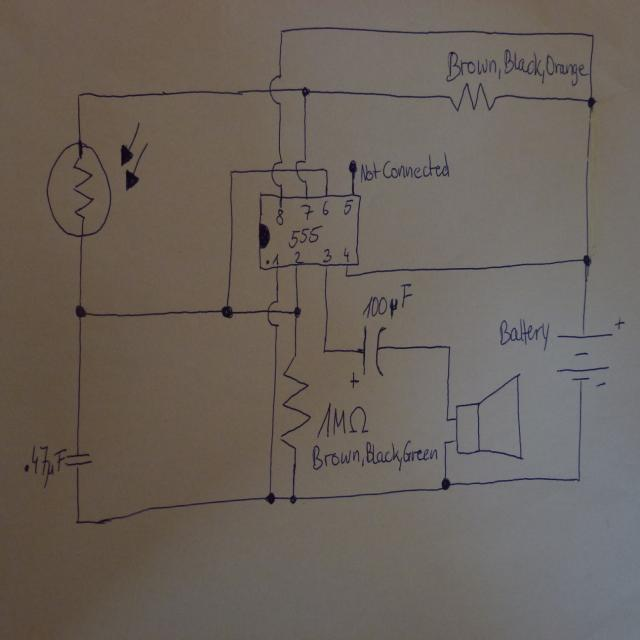capacitor: (348, 323, 387, 390), (65, 450, 93, 469)
crossover: (265, 299, 285, 328), (266, 71, 283, 103), (269, 159, 285, 188), (293, 157, 309, 185)
junction: (72, 301, 89, 321), (263, 486, 278, 506), (438, 474, 452, 493), (584, 93, 598, 110), (220, 302, 233, 320), (581, 250, 593, 268), (286, 490, 299, 506), (298, 82, 310, 98), (291, 303, 302, 319), (72, 513, 84, 527), (276, 24, 287, 38), (74, 88, 84, 102), (574, 473, 583, 484), (444, 341, 453, 352), (320, 346, 328, 356), (588, 29, 596, 39), (441, 438, 448, 446), (228, 168, 234, 176), (322, 165, 328, 173), (444, 415, 449, 423), (344, 271, 348, 279)
resistor: (44, 119, 150, 241), (279, 350, 311, 450), (446, 80, 498, 113)
source: (553, 314, 624, 389)
terminal: (346, 158, 357, 175)
text: (445, 46, 589, 86), (308, 438, 438, 473), (359, 149, 449, 185), (315, 399, 369, 439), (362, 282, 412, 320), (29, 443, 66, 489), (497, 318, 550, 350), (288, 224, 320, 249), (299, 200, 313, 220), (274, 204, 284, 224), (264, 253, 279, 266), (322, 246, 331, 262), (342, 199, 352, 213), (341, 245, 349, 260), (321, 200, 328, 214), (293, 250, 301, 262)
